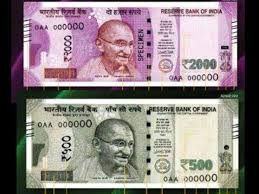fiveHundred: (35, 115, 223, 178)
